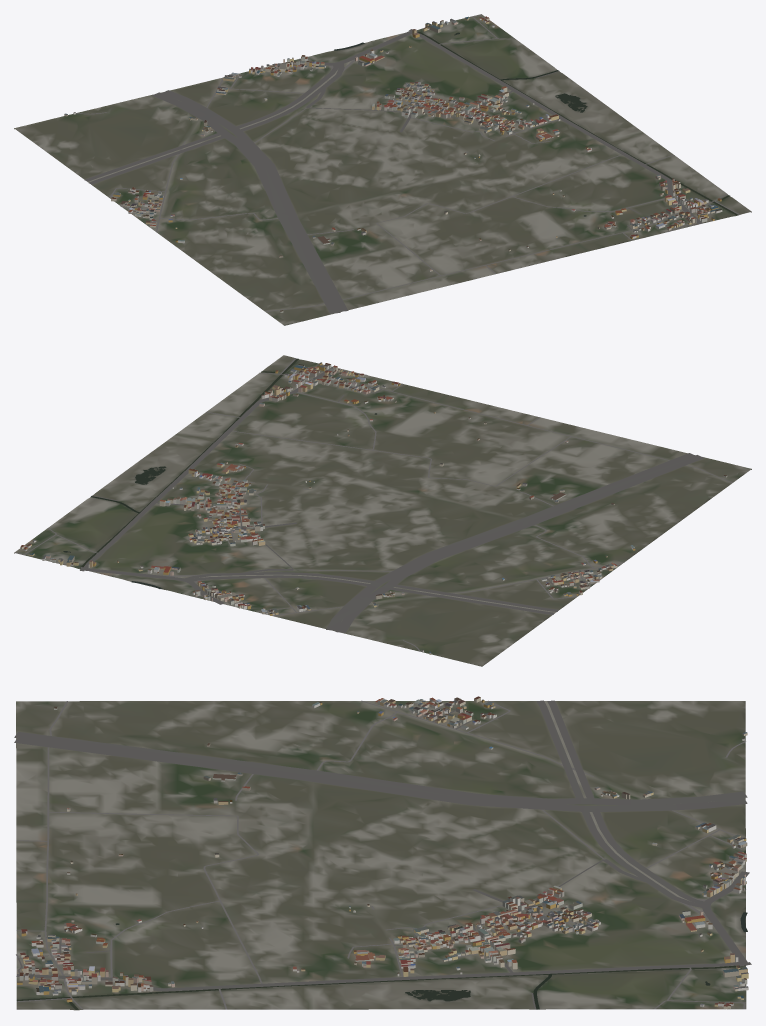
3 renders of one model, top to bottom at view 1: azimuth 30°, elevation 25°; view 2: azimuth 150°, elevation 25°; view 3: azimuth 270°, elevation 25°, orthographic. The views are drawn at different scales.
Parts seen in each view (by area): view 1: ground, roads, buildings, water; view 2: ground, roads, buildings, water; view 3: ground, roads, buildings, water.
Part boxes in pixels (x1=…): ground: x1=14, y1=14, x2=751, y2=325; roads: x1=76, y1=14, x2=739, y2=313; buildings: x1=64, y1=16, x2=722, y2=312; water: x1=334, y1=31, x2=737, y2=216; ground: x1=14, y1=355, x2=751, y2=666; roads: x1=14, y1=358, x2=732, y2=651; buildings: x1=20, y1=362, x2=727, y2=654; water: x1=63, y1=358, x2=376, y2=588; ground: x1=16, y1=701, x2=746, y2=1010; roads: x1=14, y1=700, x2=751, y2=1009; buildings: x1=17, y1=696, x2=748, y2=1009; water: x1=16, y1=912, x2=747, y2=1009.
Size of the model in its own units: 1410 by 21.99 by 1418.
